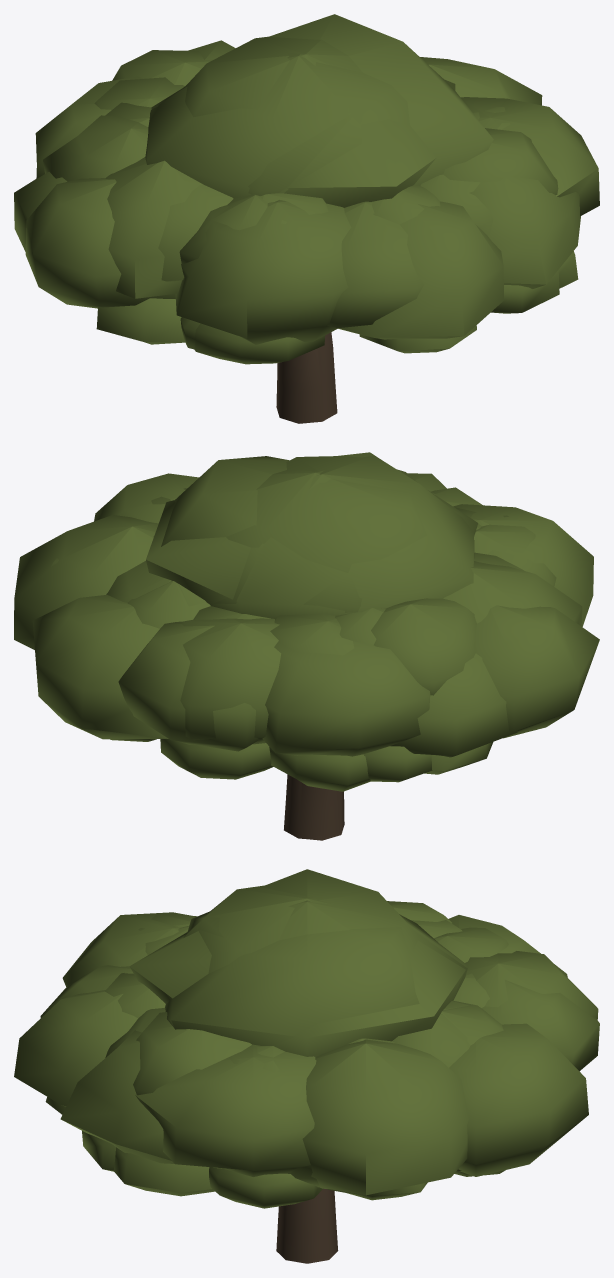
File: trees.glb
3 renders of one model, top to bottom at view 1: azimuth 30°, elevation 25°; view 2: azimuth 150°, elevation 25°; view 3: azimuth 270°, elevation 25°, orthographic. The views are drawn at different scales.
Parts seen in each view (by area): view 1: oak_b, oak_a, oak_c; view 2: oak_b, oak_a, oak_c; view 3: oak_a, oak_b, oak_c.
Part boxes in pixels (bbox=[...]): oak_b: bbox=[25, 52, 599, 423]; oak_a: bbox=[14, 36, 580, 422]; oak_c: bbox=[105, 14, 578, 423]; oak_b: bbox=[32, 455, 599, 840]; oak_a: bbox=[14, 469, 593, 839]; oak_c: bbox=[51, 452, 582, 840]; oak_a: bbox=[45, 869, 599, 1263]; oak_b: bbox=[14, 885, 588, 1262]; oak_c: bbox=[40, 911, 598, 1263].
Size of the model in its own units: 2.55 by 1.62 by 2.47.
